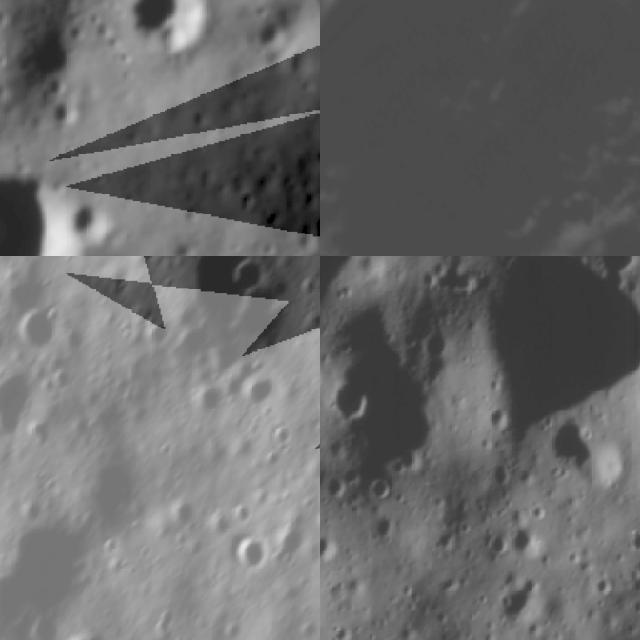crater: (170, 256, 281, 365), (0, 162, 78, 256), (545, 414, 636, 494), (112, 0, 218, 62), (20, 24, 88, 95), (13, 293, 76, 359), (72, 190, 119, 247), (225, 532, 270, 583), (326, 380, 374, 424), (275, 518, 314, 568), (41, 88, 86, 131), (256, 12, 288, 53), (481, 406, 514, 436), (363, 478, 392, 509), (622, 527, 640, 562), (632, 469, 640, 509)
